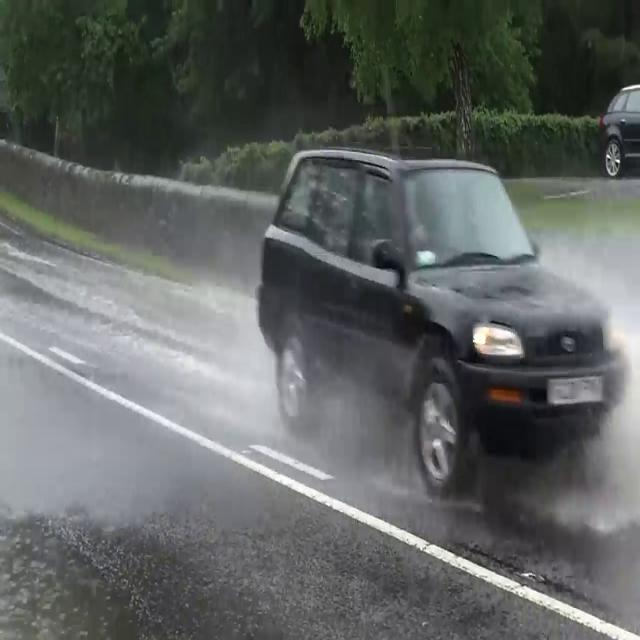license-plate-annotation: (544, 374, 609, 408)
